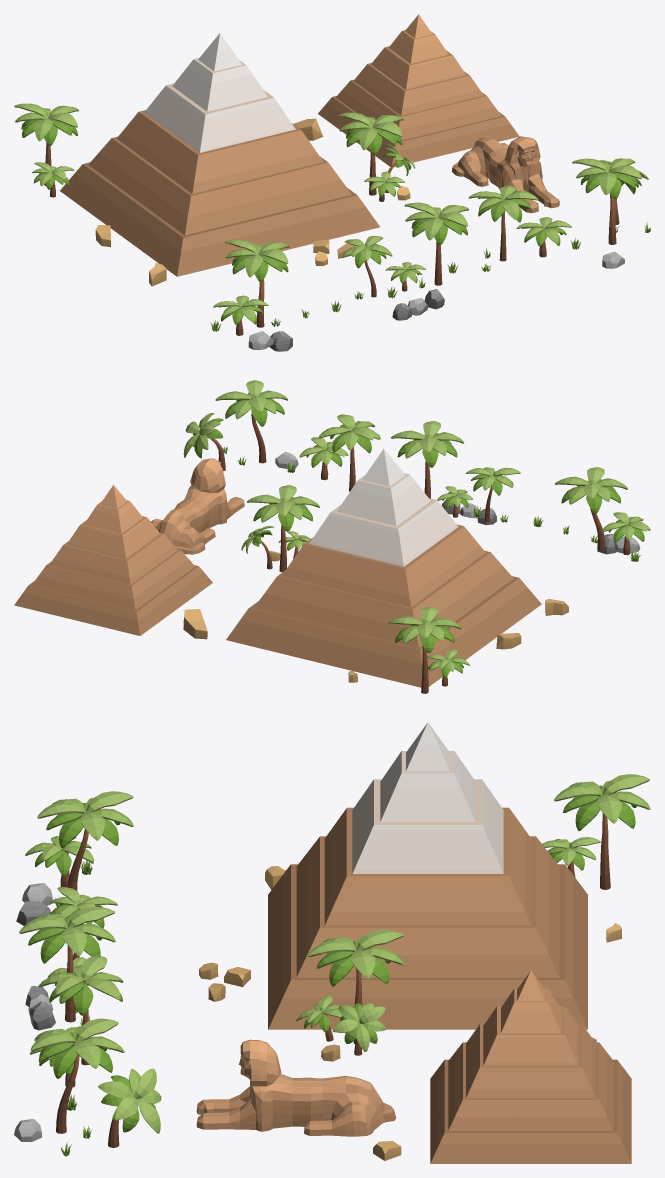
The model's file is field_14.glb.
3 renders of one model, top to bottom at view 1: azimuth 30°, elevation 25°; view 2: azimuth 150°, elevation 25°; view 3: azimuth 270°, elevation 25°, orthographic. The views are drawn at different scales.
Parts seen in each view (by area): view 1: pyramid 2_33, pyramid_13, sphinx_43, palm tree bent (2)_20, palm tree large (3)_32, palm tree bent_37, palm tree large (1)_23, palm tree large (2)_7, palm tree large_44, palm tree bent (1)_38, palm tree small (2)_11, palm tree small_1 (+3 smaller); view 2: pyramid 2_33, pyramid_13, sphinx_43, palm tree large (2)_7, palm tree bent (2)_20, palm tree large (1)_23, palm tree bent_37, palm tree large (3)_32, palm tree large_44, palm tree tilted (1)_31, palm tree bent (1)_38, palm tree small_1 (+5 smaller); view 3: pyramid 2_33, pyramid_13, sphinx_43, palm tree large (2)_7, palm tree bent (2)_20, palm tree bent_37, palm tree large (3)_32, palm tree large (1)_23, palm tree tilted (1)_31, palm tree large_44, palm tree tilted_27, palm tree small_1 (+3 smaller).
Boxes of the visible parts, left/top/right/bottom form: pyramid 2_33: left=60, top=33, right=379, bottom=276; pyramid_13: left=318, top=14, right=519, bottom=167; sphinx_43: left=452, top=136, right=559, bottom=213; palm tree bent (2)_20: left=572, top=158, right=641, bottom=244; palm tree large (3)_32: left=404, top=202, right=468, bottom=285; palm tree bent_37: left=225, top=239, right=289, bottom=327; palm tree large (1)_23: left=338, top=112, right=403, bottom=195; palm tree large (2)_7: left=14, top=103, right=78, bottom=185; palm tree large_44: left=468, top=185, right=538, bottom=261; palm tree bent (1)_38: left=342, top=236, right=392, bottom=297; palm tree small (2)_11: left=516, top=217, right=571, bottom=257; palm tree small_1: left=213, top=295, right=268, bottom=335; pyramid 2_33: left=226, top=448, right=541, bottom=687; pyramid_13: left=14, top=485, right=212, bottom=635; sphinx_43: left=151, top=458, right=244, bottom=554; palm tree large (2)_7: left=388, top=606, right=461, bottom=693; palm tree bent (2)_20: left=215, top=380, right=287, bottom=463; palm tree large (1)_23: left=247, top=485, right=319, bottom=572; palm tree bent_37: left=555, top=467, right=627, bottom=550; palm tree large (3)_32: left=391, top=421, right=464, bottom=498; palm tree large_44: left=318, top=414, right=380, bottom=491; palm tree tilted (1)_31: left=183, top=413, right=225, bottom=470; palm tree bent (1)_38: left=465, top=467, right=520, bottom=522; palm tree small_1: left=601, top=512, right=650, bottom=555; pyramid 2_33: left=268, top=722, right=587, bottom=1029; pyramid_13: left=430, top=970, right=631, bottom=1163; sphinx_43: left=196, top=1039, right=396, bottom=1136; palm tree large (2)_7: left=554, top=774, right=650, bottom=889; palm tree bent (2)_20: left=30, top=1018, right=124, bottom=1133; palm tree bent_37: left=37, top=791, right=134, bottom=890; palm tree large (3)_32: left=19, top=906, right=115, bottom=1022; palm tree large (1)_23: left=307, top=929, right=404, bottom=1044; palm tree tilted (1)_31: left=98, top=1068, right=161, bottom=1147; palm tree large_44: left=38, top=956, right=123, bottom=1065; palm tree tilted_27: left=332, top=1003, right=385, bottom=1055; palm tree small_1: left=25, top=835, right=94, bottom=887.
Bounding box in the file's own units: 22.29 × 8.9 × 20.01.
Materials: 1 (1 with a texture image).
